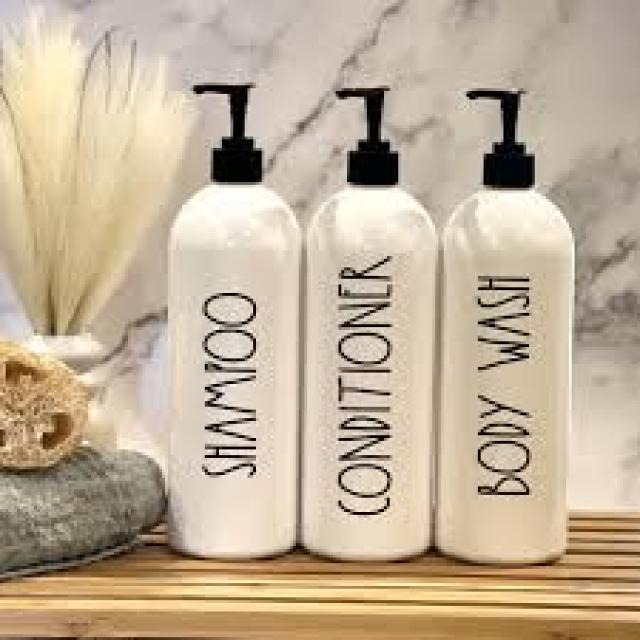Botella: (310, 62, 436, 588)
